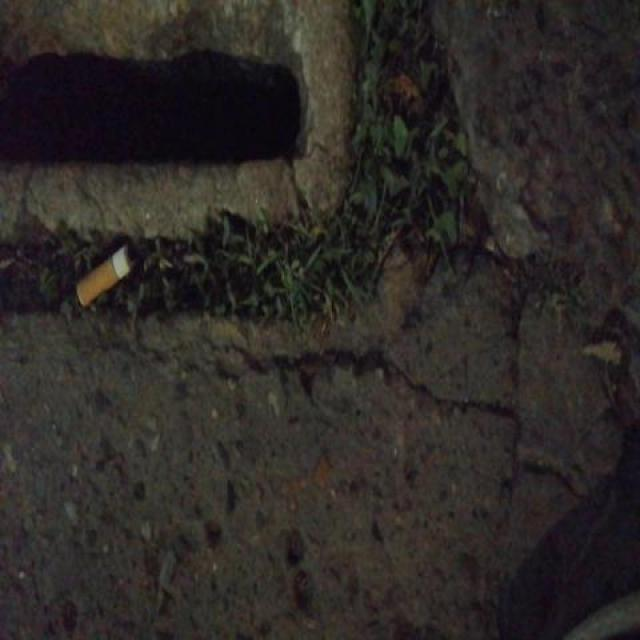non-organic waste: (75, 240, 140, 313)
